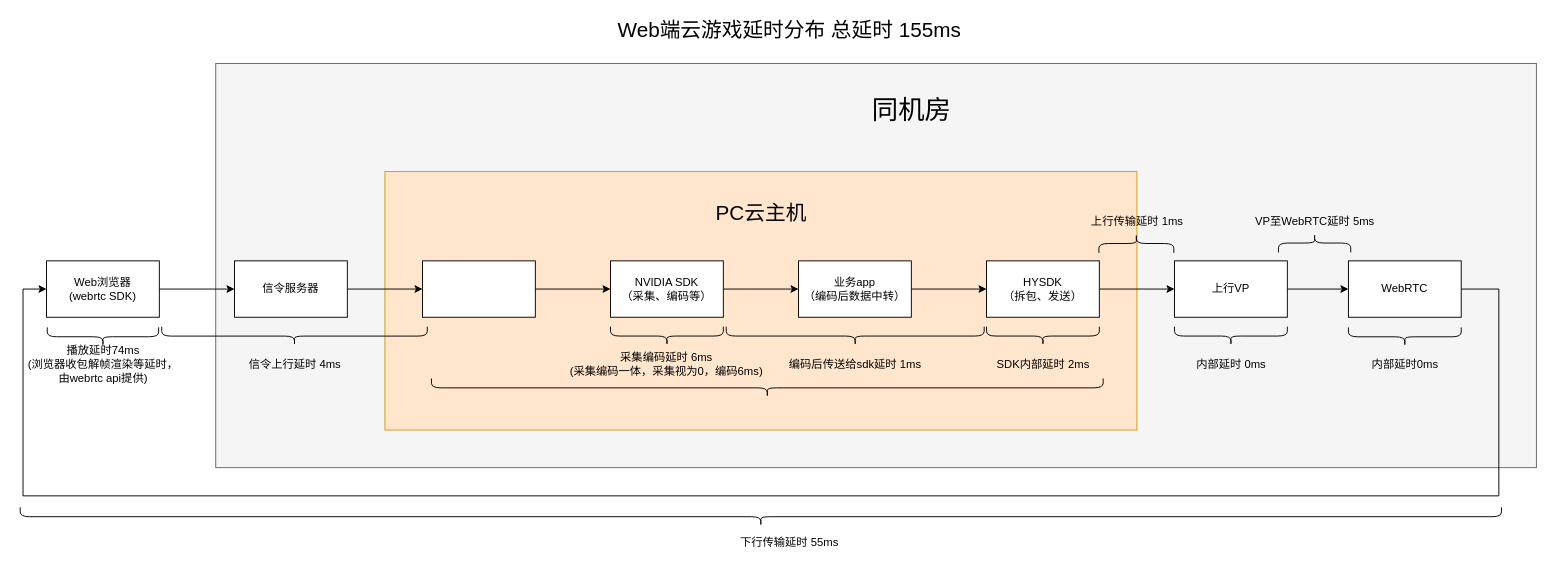
Some shapes in this 1553 by 568 pixel diagram are drawn without their labels. The centre of each missing label's shape, as x and y in pixels:
"业务app （信令中转）" goes at (478,288).
"云端总延时 9ms" goes at (767,387).
